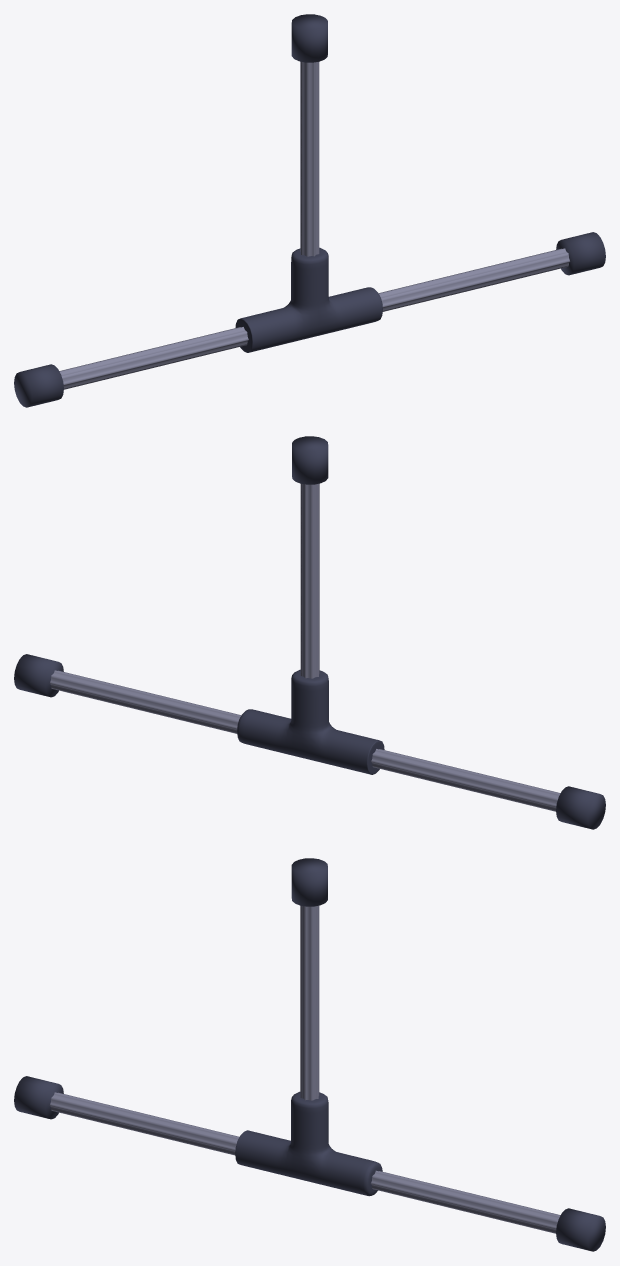
3 views of the same model, one above another, from view 1: azimuth 30°, elevation 25°; view 2: azimuth 150°, elevation 25°; view 3: azimuth 330°, elevation 25° (orthographic).
Visible parts, largest first — view 1: BézierCurve, Cube, BézierCurve.001, Cylinder.001, Cylinder.002, Cylinder; view 2: BézierCurve, Cube, BézierCurve.001, Cylinder.001, Cylinder.002, Cylinder; view 3: BézierCurve, Cube, BézierCurve.001, Cylinder, Cylinder.002, Cylinder.001.
Boxes of the visible parts, bbox=[...] form: BézierCurve: bbox=[59, 248, 569, 389]; Cube: bbox=[235, 247, 382, 352]; BézierCurve.001: bbox=[300, 61, 319, 256]; Cylinder.001: bbox=[14, 364, 63, 407]; Cylinder.002: bbox=[291, 14, 327, 62]; Cylinder: bbox=[556, 232, 605, 275]; BézierCurve: bbox=[50, 670, 560, 811]; Cube: bbox=[237, 669, 384, 774]; BézierCurve.001: bbox=[300, 483, 319, 678]; Cylinder.001: bbox=[556, 786, 605, 829]; Cylinder.002: bbox=[292, 436, 328, 484]; Cylinder: bbox=[14, 654, 63, 697]; BézierCurve: bbox=[49, 1092, 560, 1233]; Cube: bbox=[235, 1091, 382, 1196]; BézierCurve.001: bbox=[300, 905, 319, 1100]; Cylinder: bbox=[556, 1208, 605, 1251]; Cylinder.002: bbox=[291, 858, 327, 906]; Cylinder.001: bbox=[14, 1076, 63, 1119].
Bounding box in the file's own units: 801 × 420 × 44.62.
